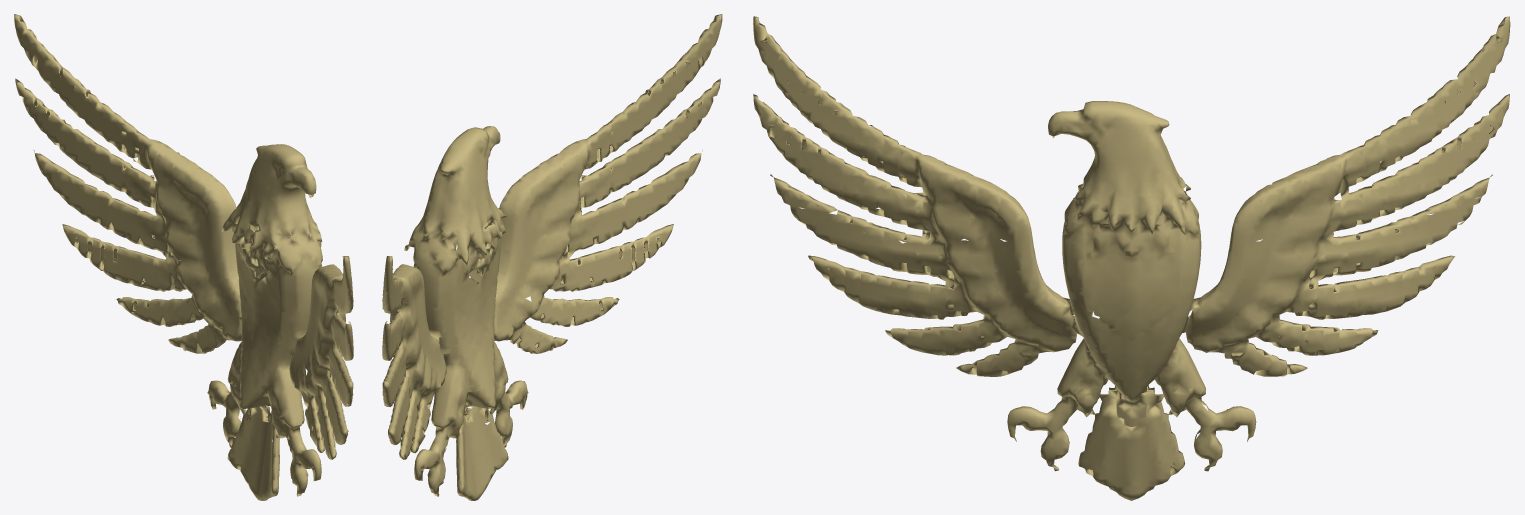
Rendered from eagle.glb.
3 renders of one model, left to right at view 1: azimuth 30°, elevation 25°; view 2: azimuth 150°, elevation 25°; view 3: azimuth 270°, elevation 25°, orthographic. The views are drawn at different scales.
Parts seen in each view (by area): view 1: tripo_node_04bbd87e-533e-4ed2-96b3-4a8059e5c81f; view 2: tripo_node_04bbd87e-533e-4ed2-96b3-4a8059e5c81f; view 3: tripo_node_04bbd87e-533e-4ed2-96b3-4a8059e5c81f.
Boxes of the visible parts, x1,y1,x2,y2 form: tripo_node_04bbd87e-533e-4ed2-96b3-4a8059e5c81f: [14, 14, 353, 500]; tripo_node_04bbd87e-533e-4ed2-96b3-4a8059e5c81f: [382, 14, 722, 500]; tripo_node_04bbd87e-533e-4ed2-96b3-4a8059e5c81f: [753, 16, 1510, 500].
Size of the model in its own units: 0.2261 by 0.6242 by 0.9767.
